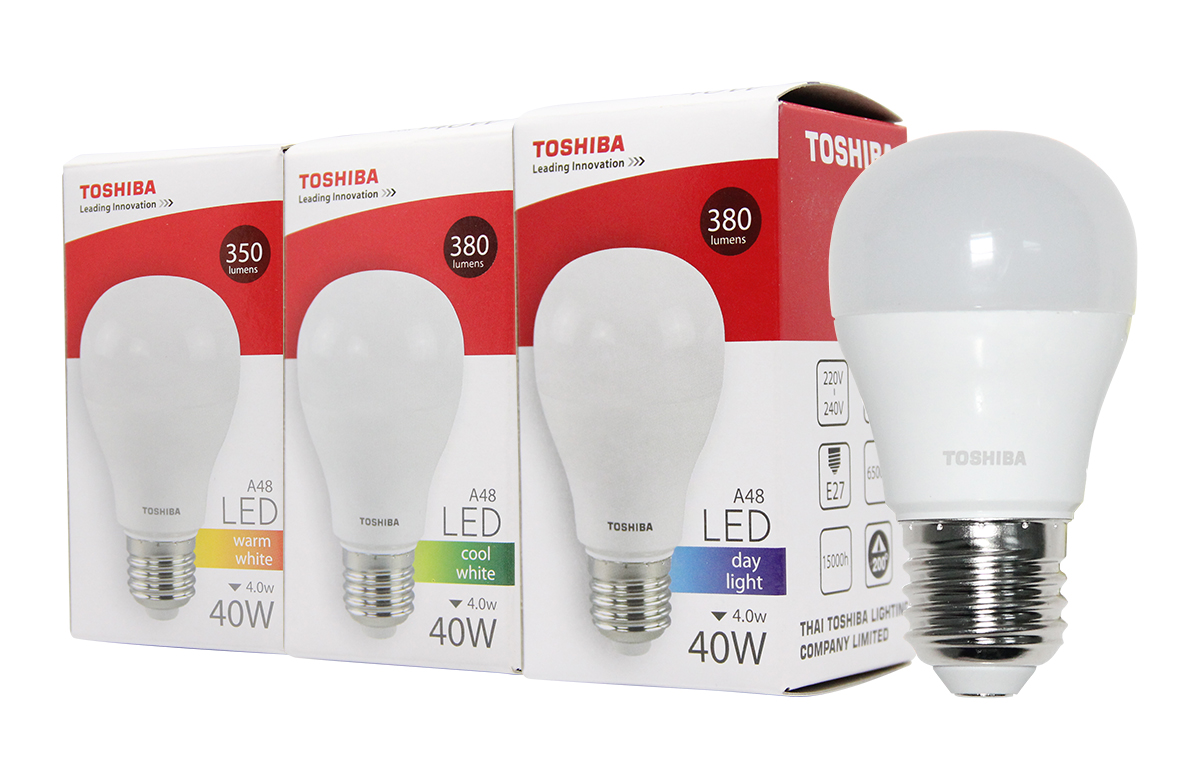Light_bulb: (821, 123, 1159, 715)
